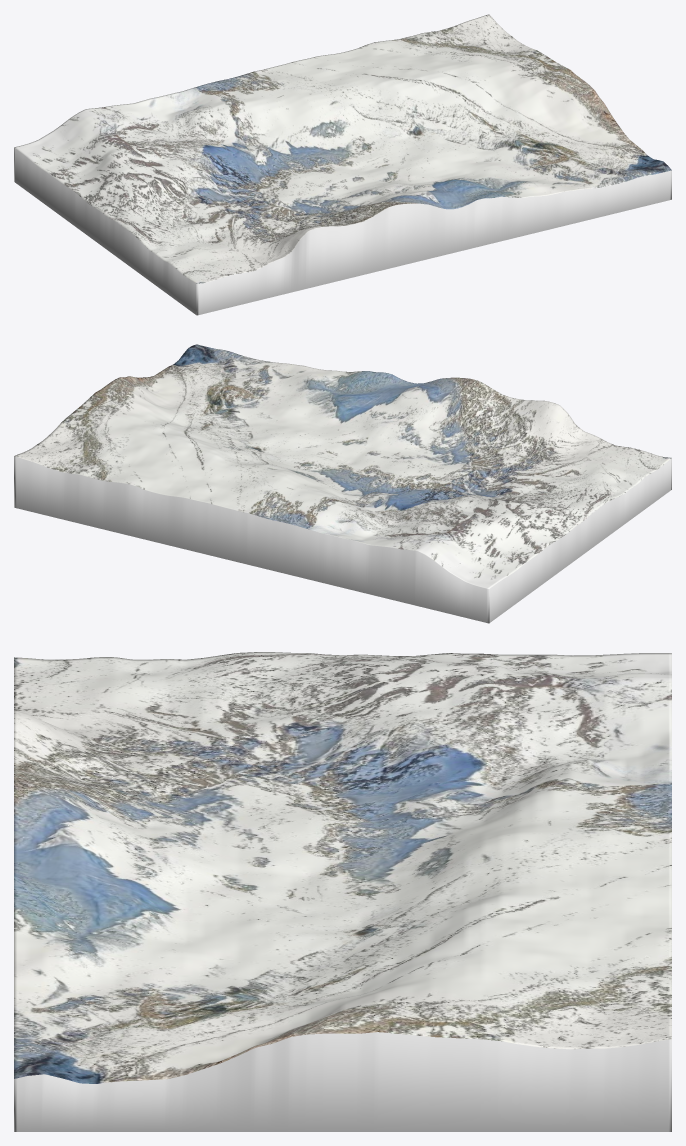
The model's file is amacuzac.fbx.
3 renders of one model, top to bottom at view 1: azimuth 30°, elevation 25°; view 2: azimuth 150°, elevation 25°; view 3: azimuth 270°, elevation 25°, orthographic. The views are drawn at different scales.
Parts seen in each view (by area): view 1: EXPORT_GOOGLE_SAT_WM; view 2: EXPORT_GOOGLE_SAT_WM; view 3: EXPORT_GOOGLE_SAT_WM.
Part boxes in pixels (x1,y1,x2,y2): EXPORT_GOOGLE_SAT_WM: (14,14,671,315); EXPORT_GOOGLE_SAT_WM: (14,344,671,623); EXPORT_GOOGLE_SAT_WM: (14,652,671,1131).
Bounding box in the file's own units: 183449 × 22819 × 122299.
